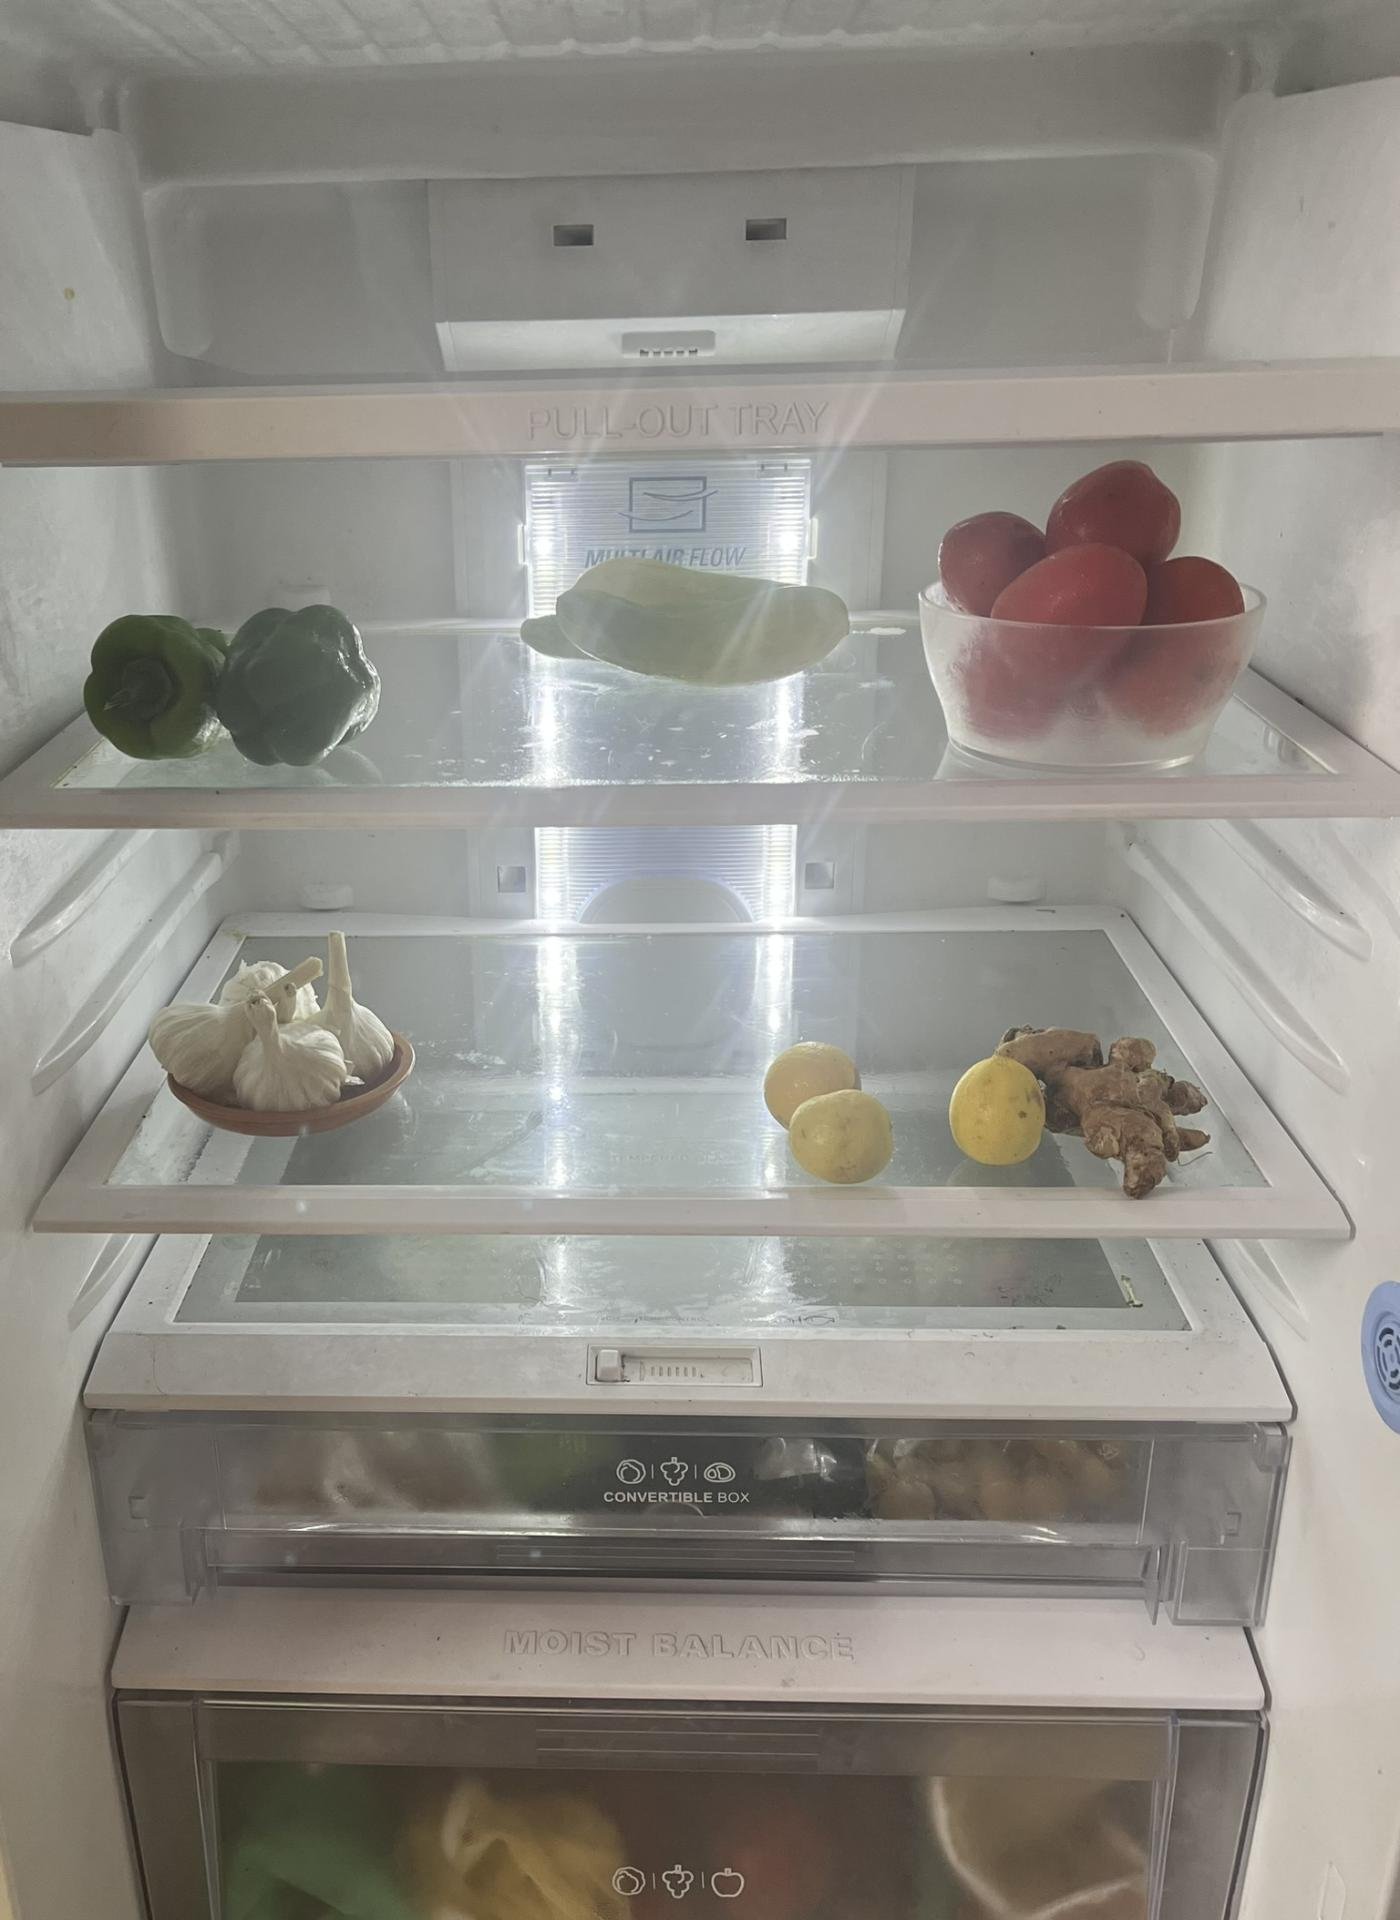capsicum: (82, 607, 379, 766)
cucumber: (514, 556, 854, 680)
garlic: (157, 933, 383, 1122)
ginger: (987, 1027, 1203, 1184)
lemon: (759, 1040, 898, 1179), (953, 1064, 1054, 1166)
tomato: (944, 452, 1237, 729)
